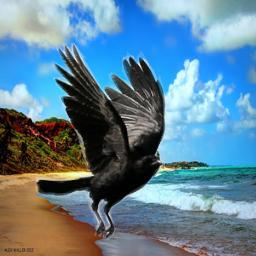Crow: (35, 43, 168, 244)
